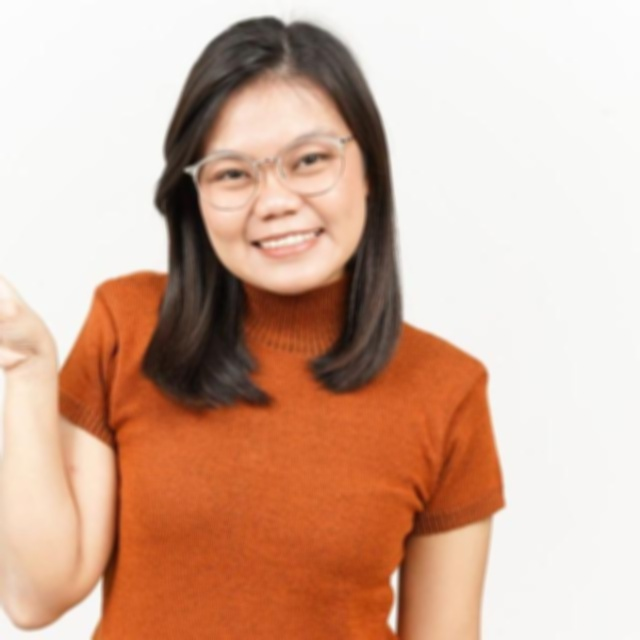Sin_Casco_Mascarrilla: (161, 16, 387, 297)
Sin_Chaleco: (46, 272, 484, 628)
